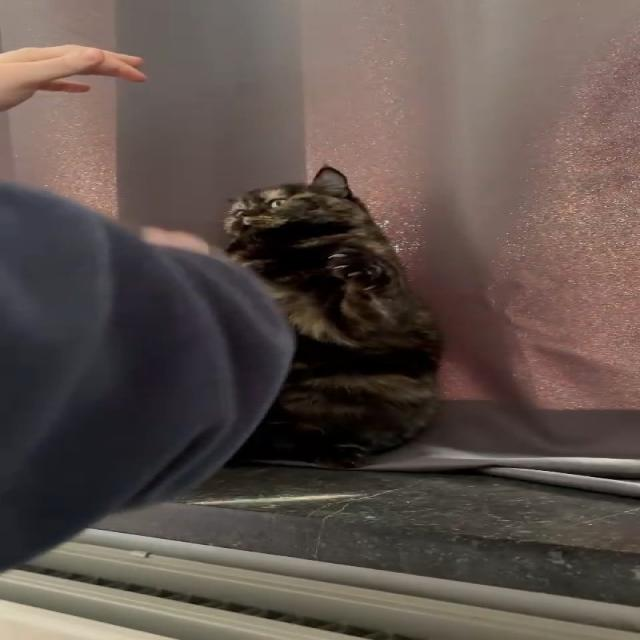authorized: (219, 164, 444, 468)
